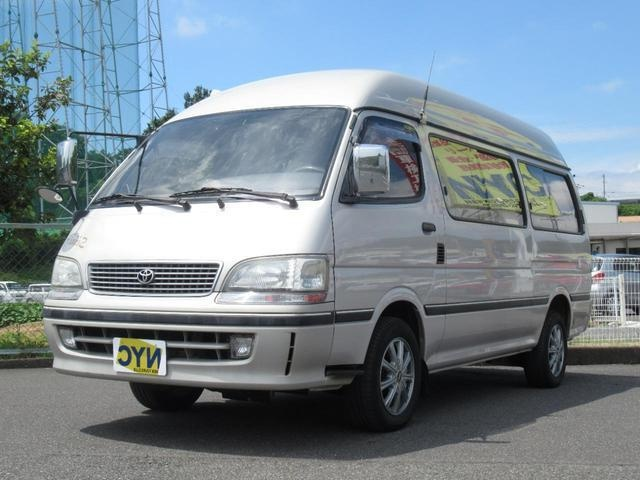van: (43, 74, 592, 411)
